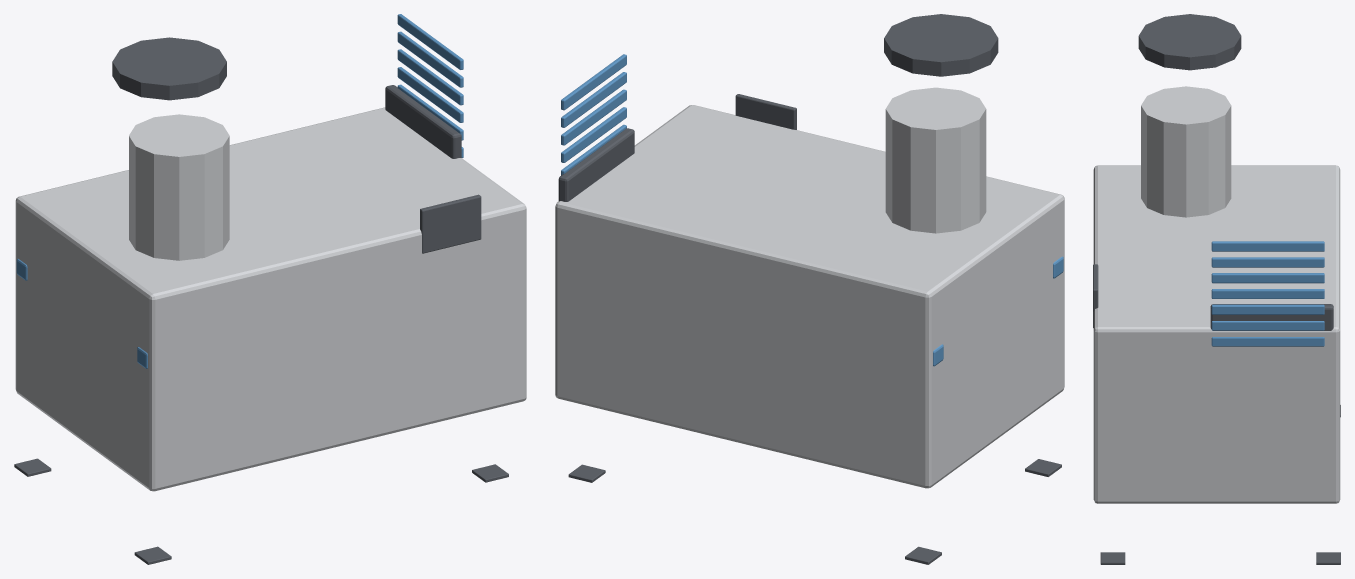
Rendered from btf-air-handler.glb.
The picture shows the model from 3 angles, left to right: view 1: azimuth 30°, elevation 25°; view 2: azimuth 150°, elevation 25°; view 3: azimuth 270°, elevation 25°; orthographic projection. The views are drawn at different scales.
Parts seen in each view (by area): view 1: 125-air-handling-unit/2, 125-air-handling-unit/0, 125-air-handling-unit/1; view 2: 125-air-handling-unit/2, 125-air-handling-unit/0, 125-air-handling-unit/1; view 3: 125-air-handling-unit/2, 125-air-handling-unit/1, 125-air-handling-unit/0.
Boxes of the visible parts, <box> form: 125-air-handling-unit/2: <box>15,107,526,491</box>; 125-air-handling-unit/0: <box>14,37,508,564</box>; 125-air-handling-unit/1: <box>16,14,463,368</box>; 125-air-handling-unit/2: <box>555,87,1064,488</box>; 125-air-handling-unit/0: <box>558,14,1061,564</box>; 125-air-handling-unit/1: <box>561,54,1063,366</box>; 125-air-handling-unit/2: <box>1093,86,1340,503</box>; 125-air-handling-unit/1: <box>1211,241,1324,346</box>; 125-air-handling-unit/0: <box>1093,14,1340,564</box>.
Bounding box in the file's own units: 125498 × 141881 × 79126.
